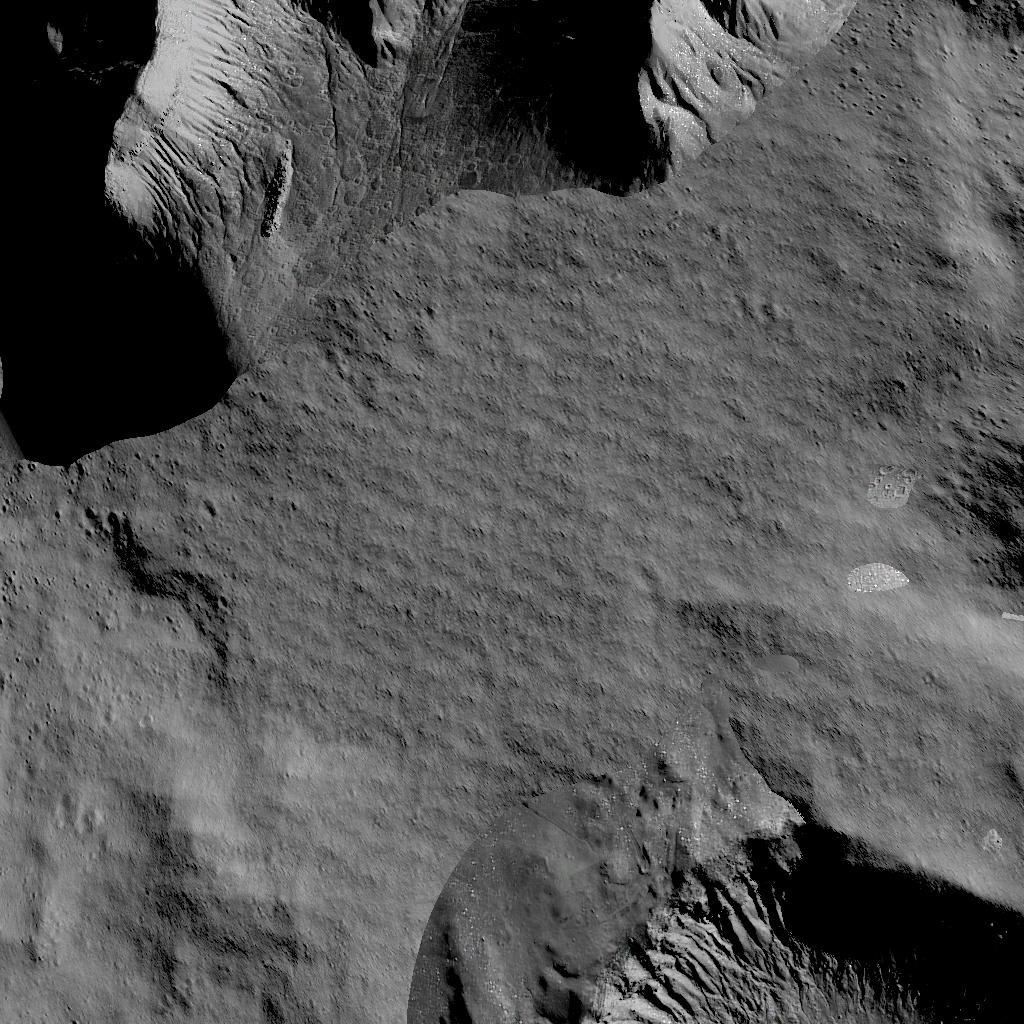Boulders: (37, 0, 873, 376)
Crater: (453, 726, 1024, 1024), (941, 416, 1024, 614)
Plan surface: (5, 478, 425, 1024), (453, 404, 921, 704), (904, 0, 1024, 370)
